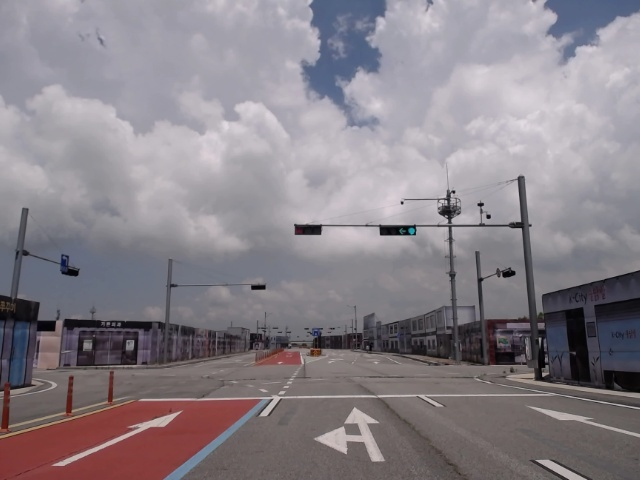all_green_4: (381, 225, 417, 236)
